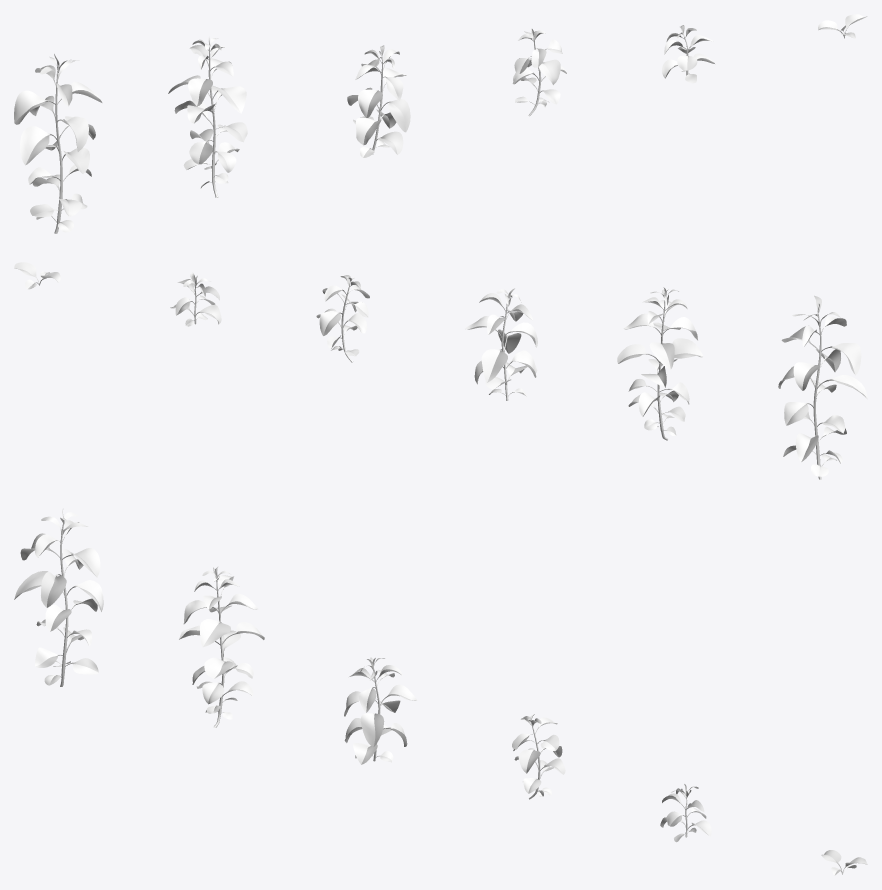
The model's file is PH_Nettle.glb.
3 renders of one model, top to bottom at view 1: azimuth 30°, elevation 25°; view 2: azimuth 150°, elevation 25°; view 3: azimuth 330°, elevation 25°, orthographic.
Parts seen in each view (by area): view 1: nettle_plant_tall_a_LOD0, nettle_plant_tall_b_LOD0, nettle_plant_medium_a_LOD0, nettle_plant_medium_b_LOD0, nettle_plant_small_a_LOD0; view 2: nettle_plant_tall_a_LOD0, nettle_plant_tall_b_LOD0, nettle_plant_medium_a_LOD0, nettle_plant_medium_b_LOD0, nettle_plant_small_a_LOD0, nettle_plant_small_b_LOD0; view 3: nettle_plant_tall_a_LOD0, nettle_plant_tall_b_LOD0, nettle_plant_medium_a_LOD0, nettle_plant_medium_b_LOD0, nettle_plant_small_a_LOD0.
Part boxes in pixels (x1=…): nettle_plant_tall_a_LOD0: x1=14, y1=54, x2=102, y2=233; nettle_plant_tall_b_LOD0: x1=168, y1=36, x2=247, y2=197; nettle_plant_medium_a_LOD0: x1=347, y1=45, x2=410, y2=157; nettle_plant_medium_b_LOD0: x1=512, y1=28, x2=566, y2=116; nettle_plant_small_a_LOD0: x1=662, y1=25, x2=714, y2=83; nettle_plant_tall_a_LOD0: x1=778, y1=295, x2=867, y2=479; nettle_plant_tall_b_LOD0: x1=617, y1=287, x2=703, y2=440; nettle_plant_medium_a_LOD0: x1=465, y1=288, x2=537, y2=400; nettle_plant_medium_b_LOD0: x1=316, y1=275, x2=369, y2=362; nettle_plant_small_a_LOD0: x1=170, y1=272, x2=221, y2=326; nettle_plant_small_b_LOD0: x1=14, y1=262, x2=60, y2=289; nettle_plant_tall_a_LOD0: x1=14, y1=508, x2=103, y2=686; nettle_plant_tall_b_LOD0: x1=179, y1=566, x2=264, y2=727; nettle_plant_medium_a_LOD0: x1=344, y1=657, x2=417, y2=764; nettle_plant_medium_b_LOD0: x1=512, y1=714, x2=565, y2=799; nettle_plant_small_a_LOD0: x1=660, y1=784, x2=711, y2=842.
Size of what is drawn, in the model's own units: 1.08 by 0.2184 by 0.0947.
1 material, 1 textured.
